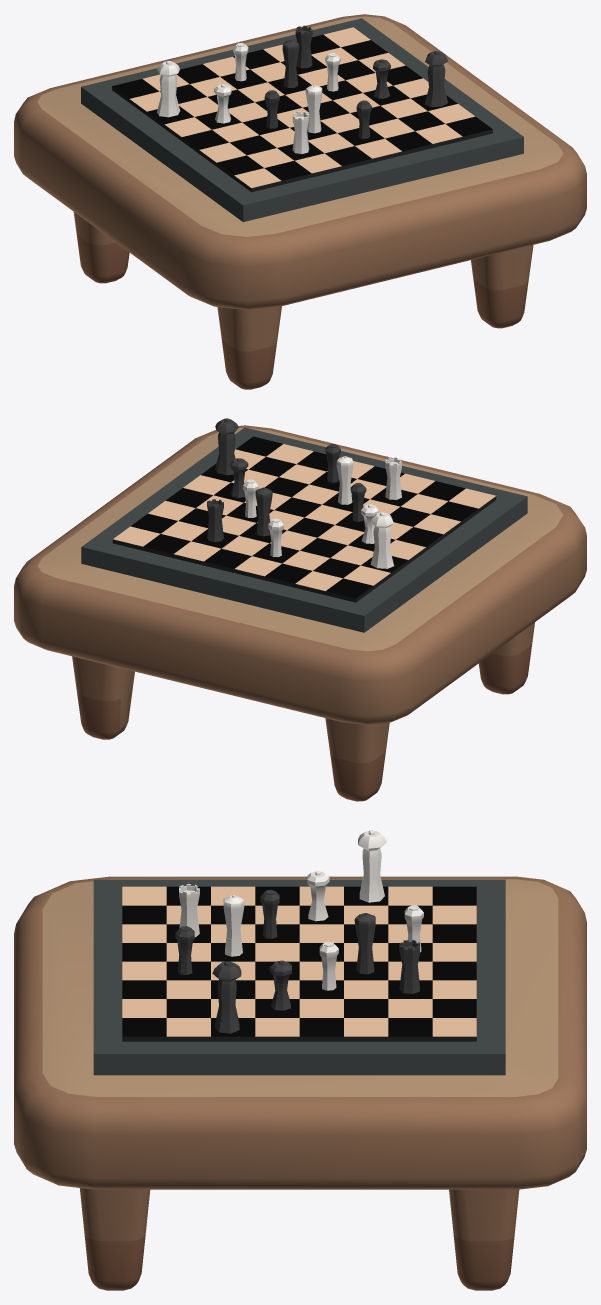
Rendered from Chess-Table.fbx.
The picture shows the model from 3 angles, top to bottom: view 1: azimuth 30°, elevation 25°; view 2: azimuth 150°, elevation 25°; view 3: azimuth 270°, elevation 25°; orthographic projection. The views are drawn at different scales.
Visible parts, largest first — view 1: Chess-Table, Chessboard, Chess-piece.013, Chess-piece.019, Chess-piece.021, Chess-piece.015, Chess-piece.016, Chess-piece.022, Chess-piece.014, Chess-piece.020; view 2: Chess-Table, Chessboard, Chess-piece.013, Chess-piece.019, Chess-piece.015, Chess-piece.021, Chess-piece.016, Chess-piece.022, Chess-piece.020; view 3: Chess-Table, Chessboard, Chess-piece.019, Chess-piece.013, Chess-piece.015, Chess-piece.021, Chess-piece.022, Chess-piece.016, Chess-piece.014, Chess-piece.020, Chess-piece.024, Chess-piece.018 (+1 smaller).
Part boxes in pixels (<box>): Chess-Table: <box>14,14,586,389</box>; Chessboard: <box>81,18,523,222</box>; Chess-piece.013: <box>156,61,180,117</box>; Chess-piece.019: <box>425,50,447,107</box>; Chess-piece.021: <box>282,39,299,87</box>; Chess-piece.015: <box>305,85,322,133</box>; Chess-piece.016: <box>292,111,309,154</box>; Chess-piece.022: <box>295,25,312,68</box>; Chess-piece.014: <box>214,84,231,123</box>; Chess-piece.020: <box>373,59,390,98</box>; Chess-Table: <box>14,425,586,801</box>; Chessboard: <box>81,427,527,632</box>; Chess-piece.013: <box>370,512,393,568</box>; Chess-piece.019: <box>215,418,238,475</box>; Chess-piece.015: <box>336,456,353,504</box>; Chess-piece.021: <box>255,487,272,536</box>; Chess-piece.016: <box>385,457,401,499</box>; Chess-piece.022: <box>207,499,223,542</box>; Chess-piece.020: <box>230,458,248,497</box>; Chess-Table: <box>14,876,586,1290</box>; Chessboard: <box>93,879,505,1075</box>; Chess-piece.019: <box>212,961,241,1033</box>; Chess-piece.013: <box>358,830,386,902</box>; Chess-piece.015: <box>223,895,244,956</box>; Chess-piece.021: <box>354,913,375,974</box>; Chess-piece.022: <box>399,940,419,993</box>; Chess-piece.016: <box>179,884,199,937</box>; Chess-piece.014: <box>307,871,329,921</box>; Chess-piece.020: <box>269,960,291,1010</box>; Chess-piece.024: <box>260,889,279,938</box>; Chess-piece.018: <box>319,941,338,990</box>.
Size of the model in its own units: 1.65 by 0.9938 by 1.66.
